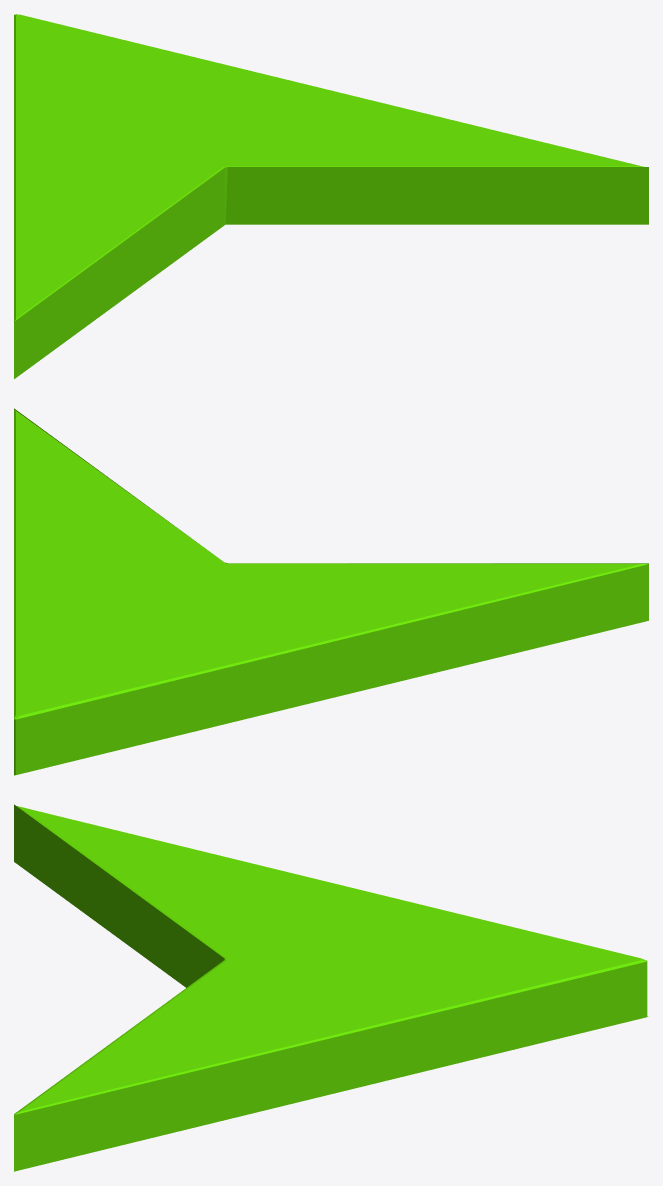
File: arrowdown.fbx
3 views of the same model, one above another, from view 1: azimuth 30°, elevation 25°; view 2: azimuth 150°, elevation 25°; view 3: azimuth 270°, elevation 25° (orthographic).
Visible parts, largest first — view 1: Circle; view 2: Circle; view 3: Circle.
Part boxes in pixels (box(x1,y1,x2,y2)): Circle: box(14, 14, 648, 378); Circle: box(14, 408, 648, 775); Circle: box(14, 804, 648, 1171).
Size of the model in its own units: 346 by 30 by 300.
